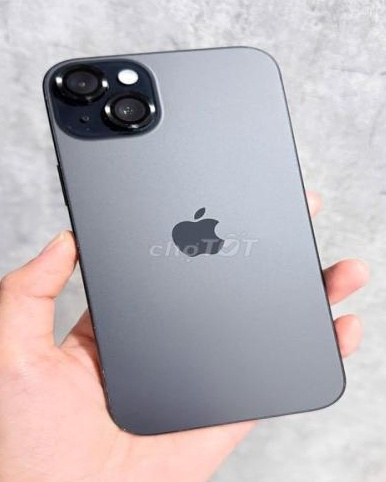scratch: (93, 367, 138, 440)
